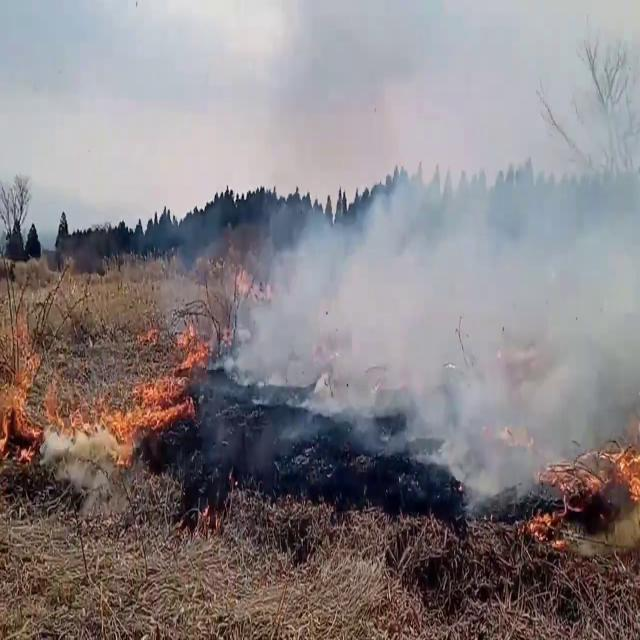Fire: (0, 321, 213, 483)
Smoke: (187, 59, 640, 503)
